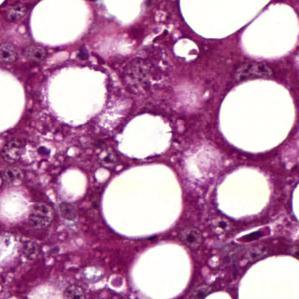steatosis: (102, 166, 186, 238), (217, 77, 297, 151)
